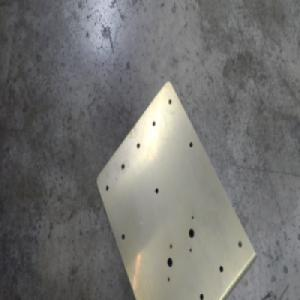MetalSheet: (93, 77, 258, 300)
